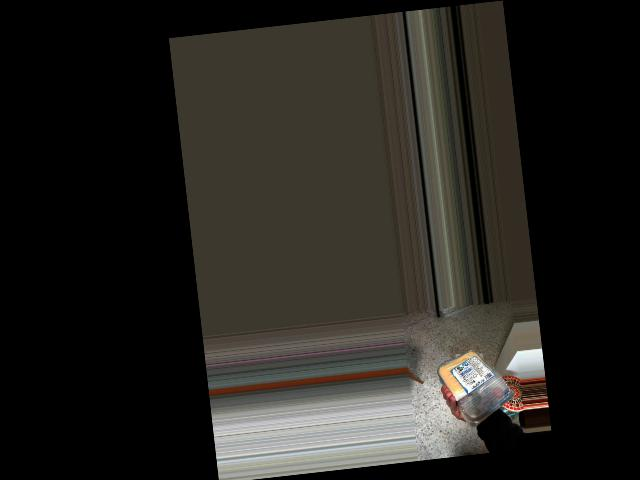cheese: (439, 343, 519, 411)
